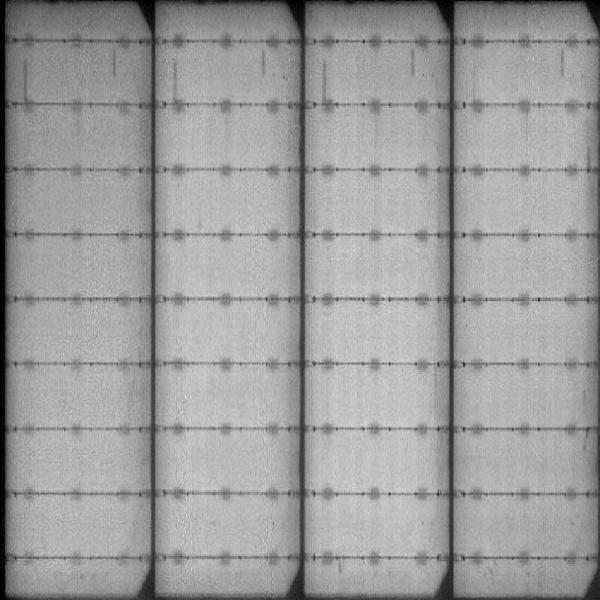scratch: (19, 56, 32, 102), (314, 58, 328, 100), (169, 62, 182, 103), (255, 47, 271, 78), (558, 47, 570, 88), (404, 49, 418, 80), (109, 49, 118, 75)
